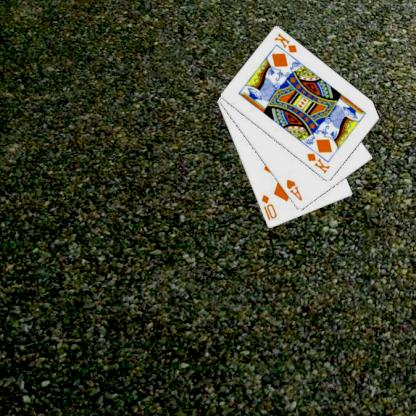10D: (260, 192, 280, 222)
AH: (285, 176, 306, 202)
KD: (306, 150, 334, 174), (273, 30, 300, 54)
